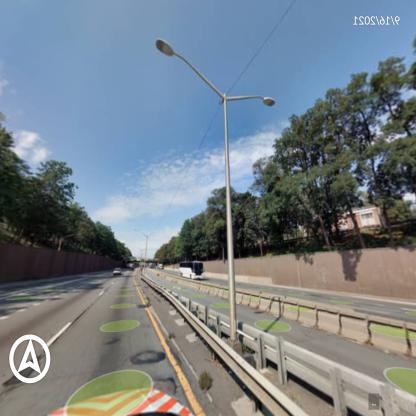Streetlight: (151, 25, 294, 375)
